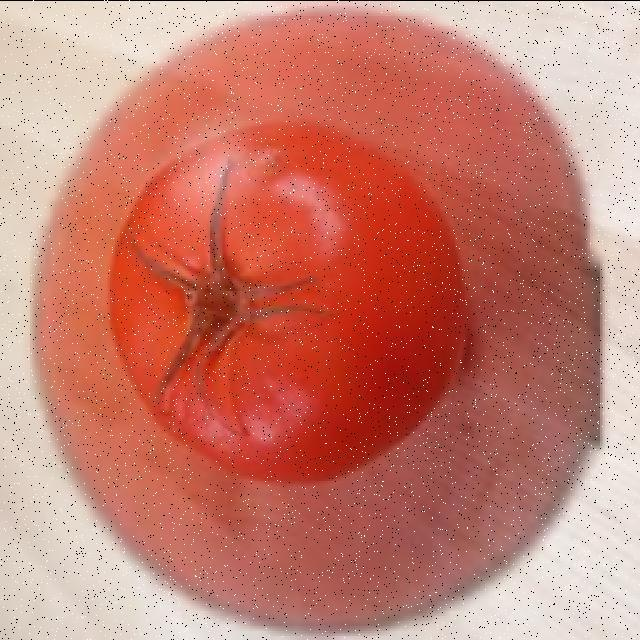tomato: (110, 126, 470, 489)
